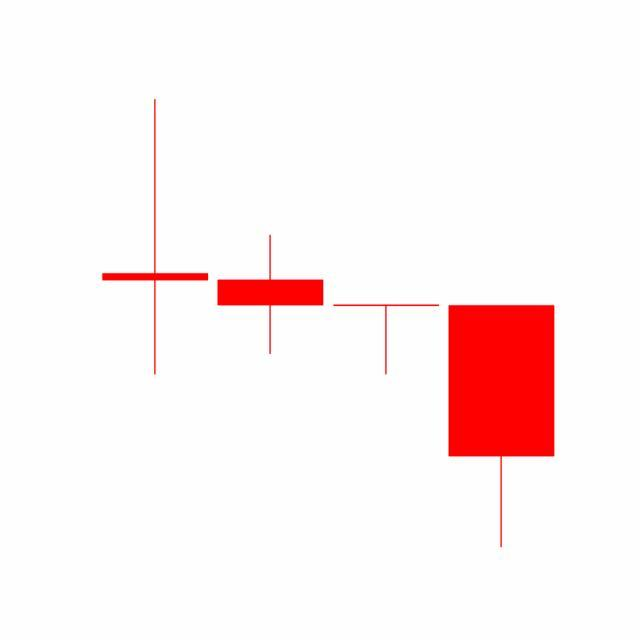Dragonfly Doji: (329, 304, 445, 376)
